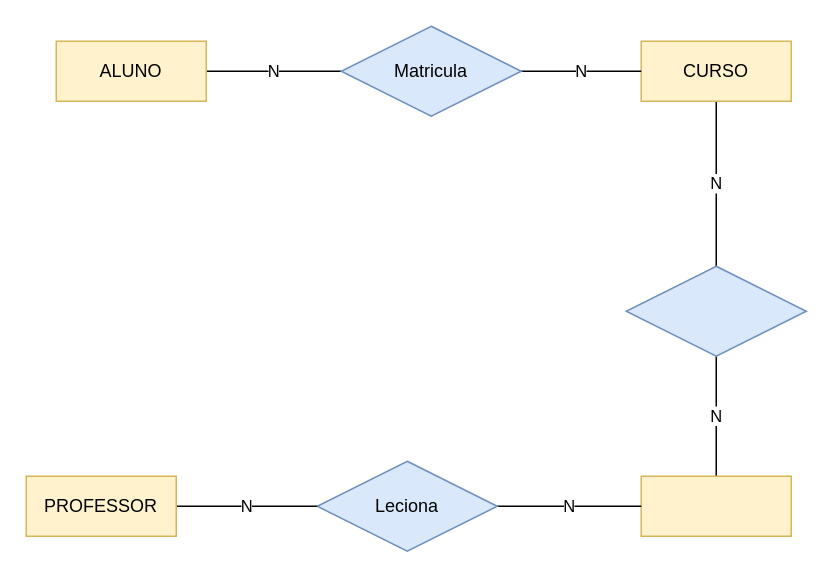
Some shapes in this 833 by 578 pixel diagram are drawn without their labels. The box of each missing label's shape, as (x1, y1, x2, y2) in pixels:
Composto: (625, 265, 806, 356)
DISCIPLINA: (640, 475, 791, 536)
